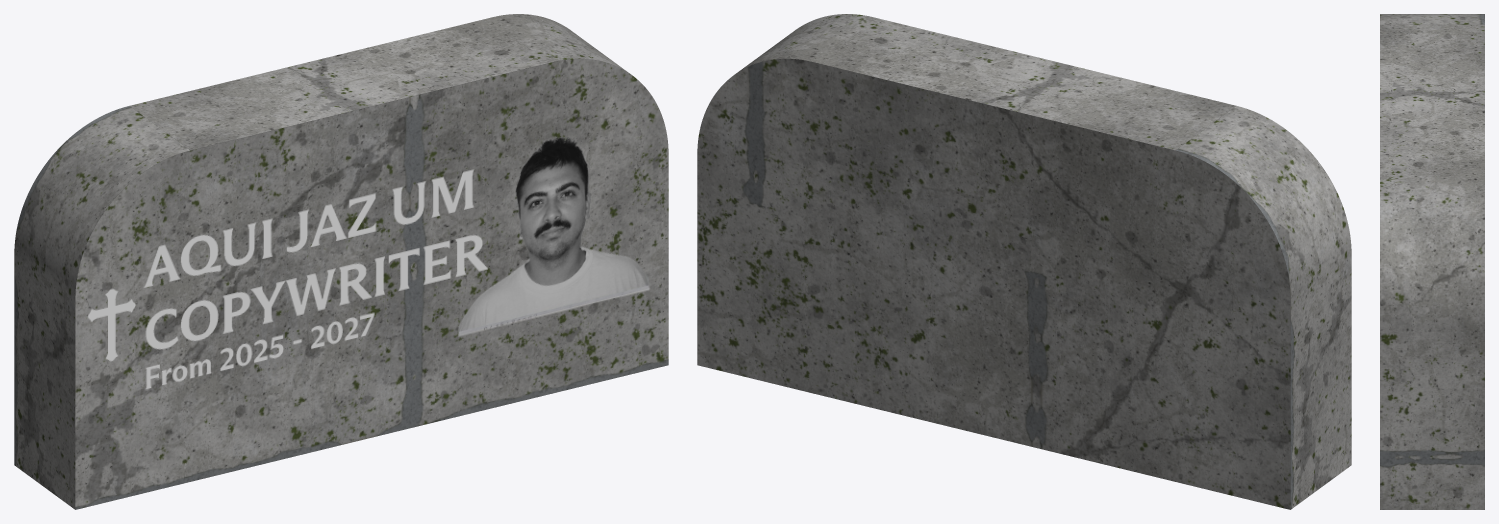
The model's file is LAPIDE-v1.glb.
3 views of the same model, side by side, from view 1: azimuth 30°, elevation 25°; view 2: azimuth 150°, elevation 25°; view 3: azimuth 270°, elevation 25° (orthographic). The views are drawn at different scales.
Bounding box in the file's own units: 0.4734 × 0.2527 × 0.0844.
1 material, 1 textured.
